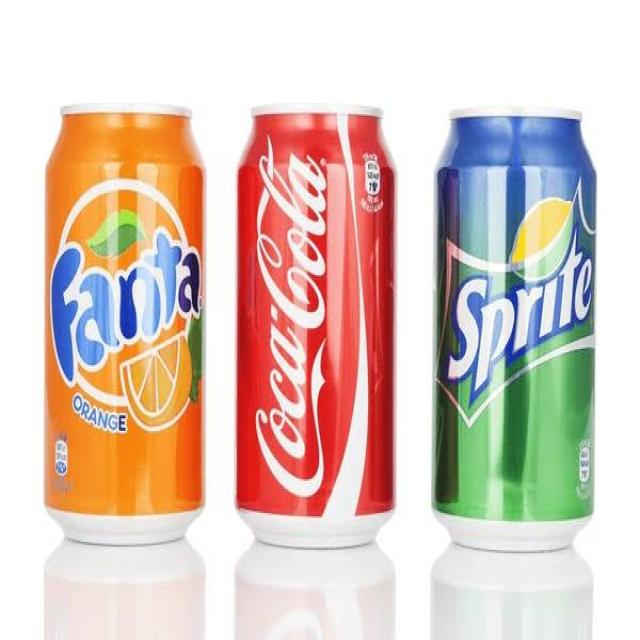metal: (421, 93, 613, 576), (224, 85, 410, 558), (32, 86, 216, 554)
